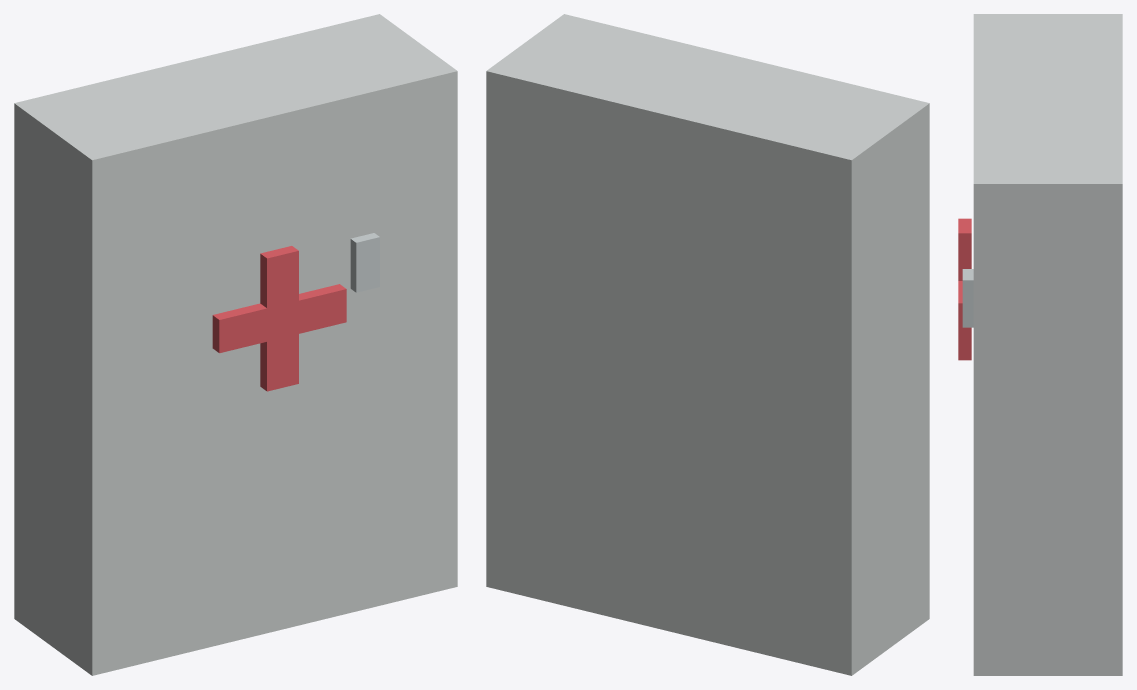
File: cabinet_medical.gltf
The picture shows the model from 3 angles, left to right: view 1: azimuth 30°, elevation 25°; view 2: azimuth 150°, elevation 25°; view 3: azimuth 270°, elevation 25°; orthographic projection. The views are drawn at different scales.
Size of the model in its own units: 0.92 by 1.24 by 0.375.
